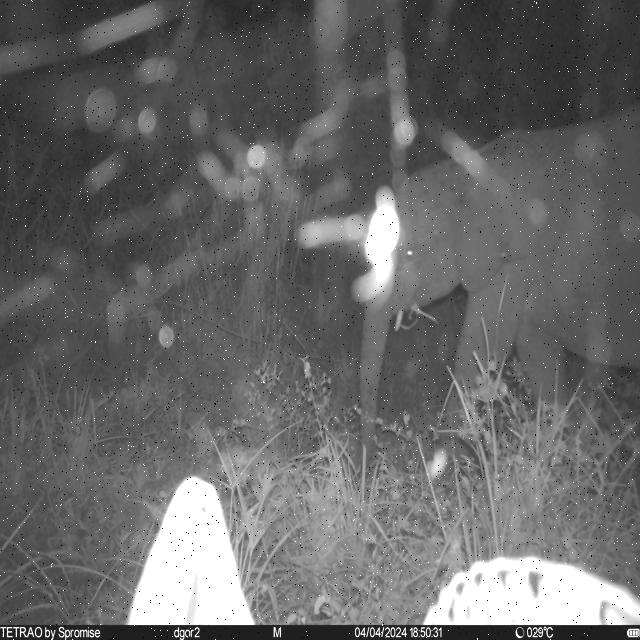calf: (362, 102, 640, 484)
ear: (460, 158, 552, 300)
tusk: (394, 310, 407, 332)
